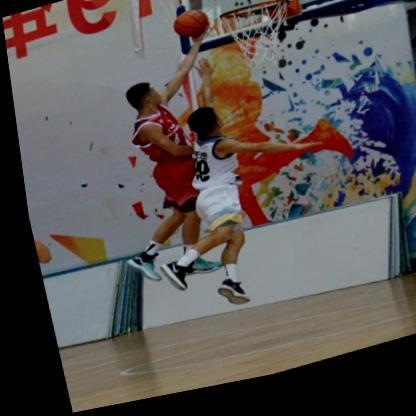basketball: (169, 14, 209, 48)
rim: (216, 4, 299, 84)
